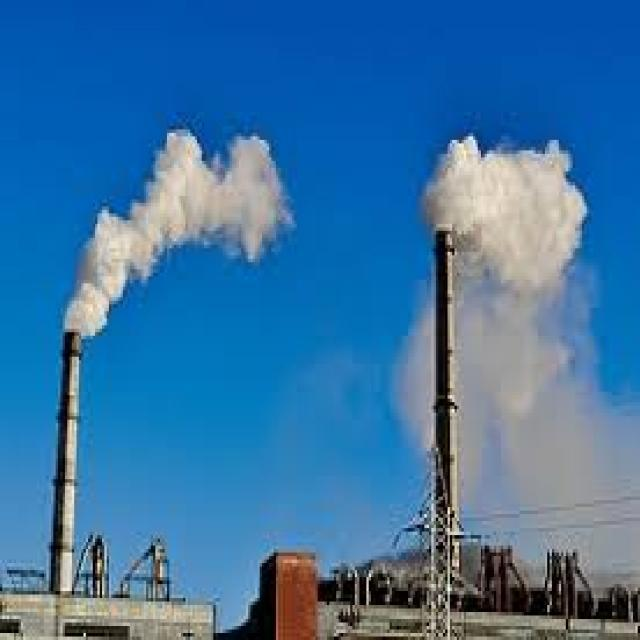Smoke: (403, 134, 640, 574), (60, 136, 288, 342)
